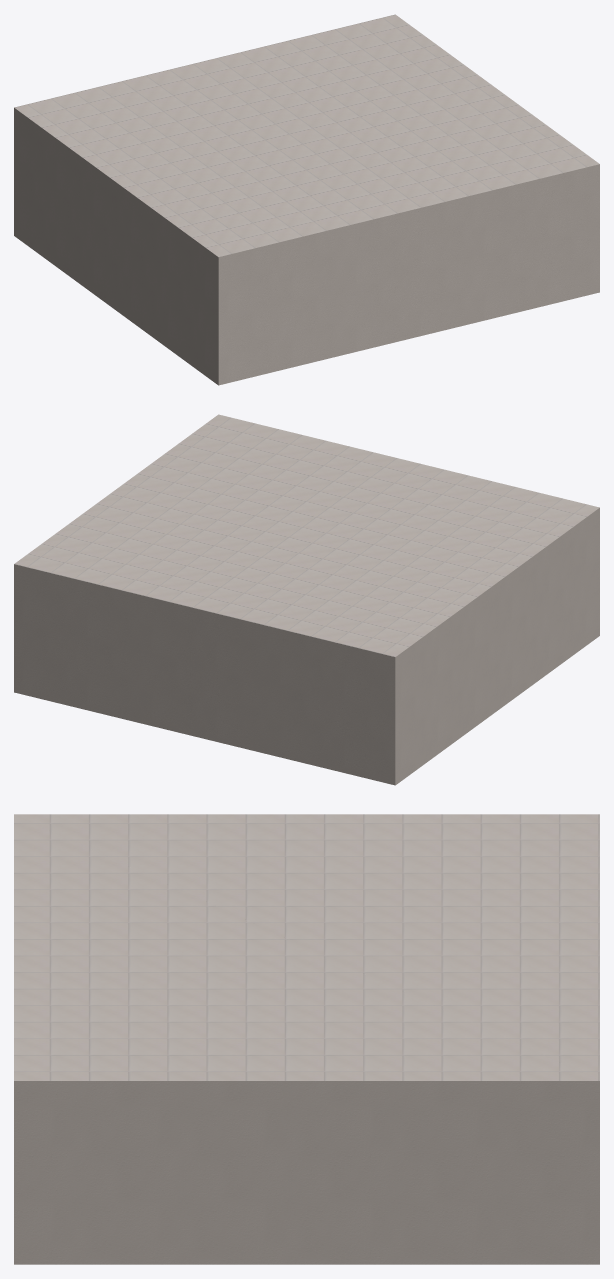
Rendered from Room.glb.
3 renders of one model, top to bottom at view 1: azimuth 30°, elevation 25°; view 2: azimuth 150°, elevation 25°; view 3: azimuth 270°, elevation 25°, orthographic. The views are drawn at different scales.
Visible parts, largest first — view 1: Room; view 2: Room; view 3: Room.
Boxes of the visible parts, box(x1,y1,x2,y2) form: Room: box(14, 14, 599, 385); Room: box(14, 414, 599, 785); Room: box(14, 814, 599, 1264).
Size of what is drawn, in the model's own units: 10.84 by 3.49 by 10.07.
4 materials, 3 textured.
